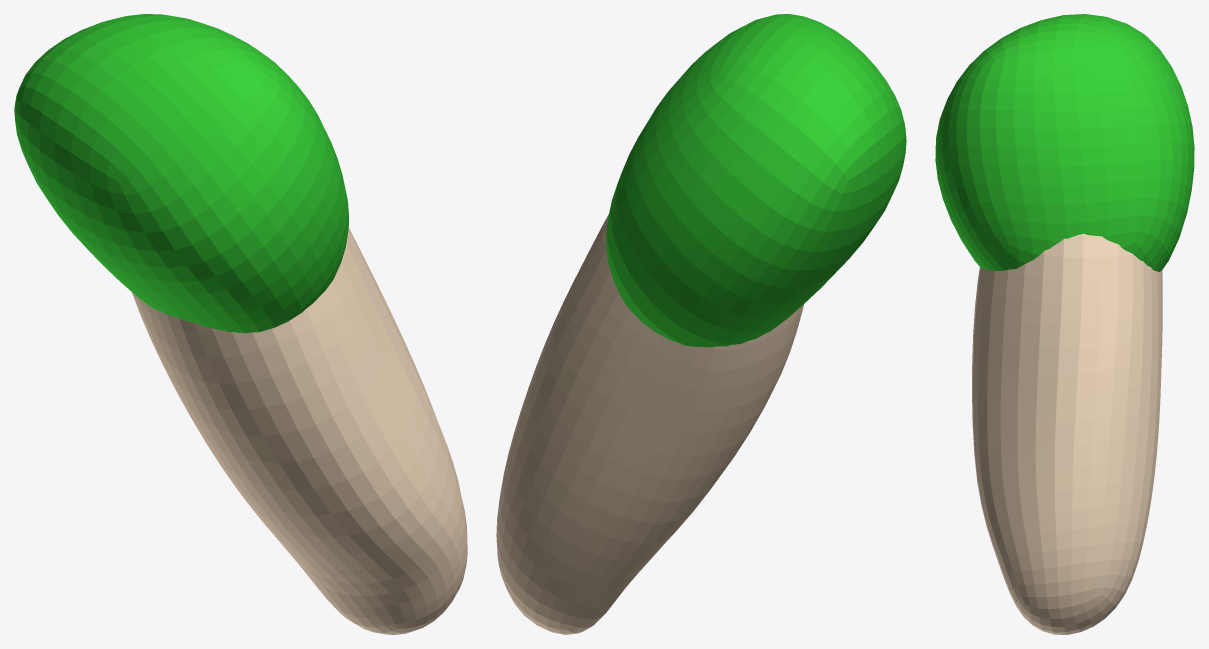
Rendered from LeftShoulder.fbx.
3 views of the same model, side by side, from view 1: azimuth 30°, elevation 25°; view 2: azimuth 150°, elevation 25°; view 3: azimuth 270°, elevation 25° (orthographic). The views are drawn at different scales.
Parts seen in each view (by area): view 1: LeftShoulder; view 2: LeftShoulder; view 3: LeftShoulder.
Boxes of the visible parts, x1,y1,x2,y2 form: LeftShoulder: (14, 14, 467, 634); LeftShoulder: (496, 14, 906, 634); LeftShoulder: (935, 14, 1194, 634).
Bounding box in the file's own units: 0.2039 × 0.3222 × 0.1456.
